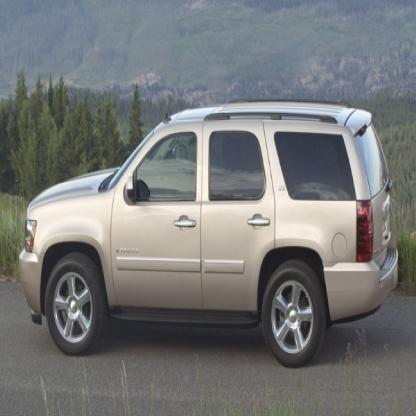Vehicle: (19, 101, 400, 367)
